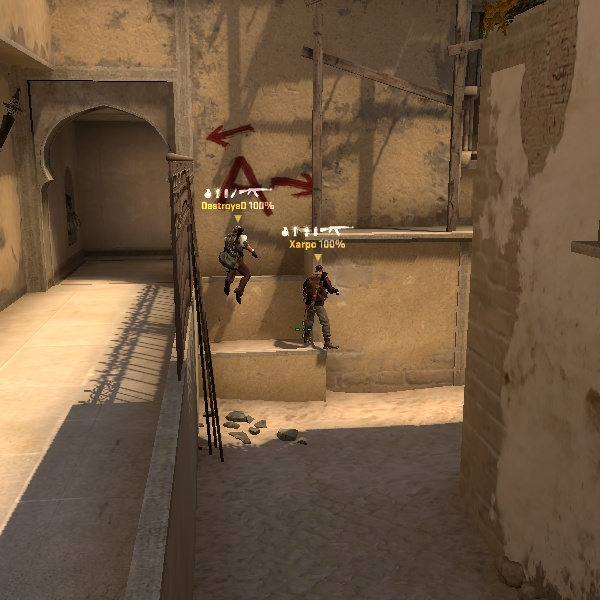t_body: (295, 260, 344, 349), (217, 226, 261, 301)
t_head: (311, 262, 329, 279), (231, 223, 247, 239)
